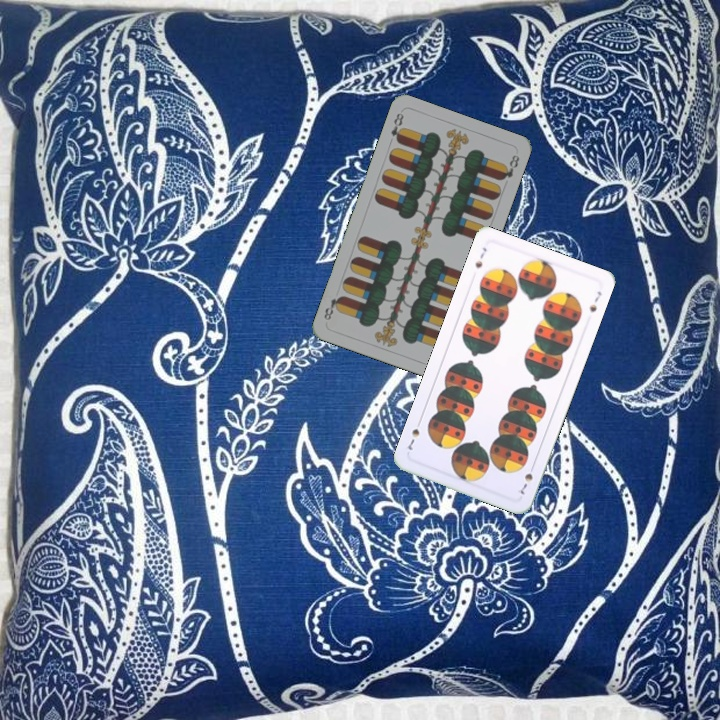E8: (387, 109, 407, 146)
S7: (516, 460, 537, 497), (471, 243, 489, 271)
